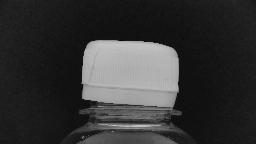Broken Cap: (82, 40, 178, 110)
